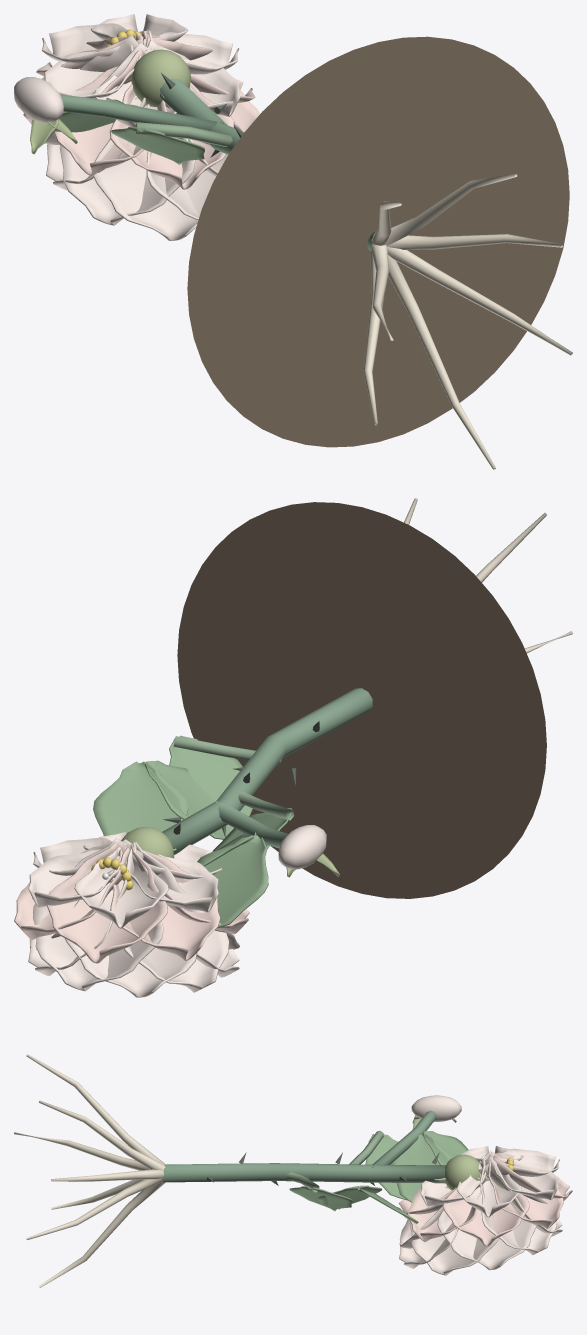
File: rose.glb
3 views of the same model, one above another, from view 1: azimuth 30°, elevation 25°; view 2: azimuth 150°, elevation 25°; view 3: azimuth 270°, elevation 25° (orthographic). The views are drawn at different scales.
Parts seen in each view (by area): view 1: Part_Soil__soil, Part_Petal__petO4, Part_Petal__petO3, Part_Petal__petM3, Part_Petal__petM2, Part_Roots__rt5, Part_Branch__branch, Part_Roots__rt6, Part_Sepal__recept, Part_Petal__petI0, Part_Stem__stem, Part_Roots__rt0 (+19 smaller); view 2: Part_Soil__soil, Part_Stem__stem, Part_Petal__petM0, Part_Leaf__lfa0, Part_Leaf__lfb2, Part_Petal__petO0, Part_Petal__petO1, Part_Petal__petI0, Part_Petal__petM1, Part_Leaf__lfa1, Part_Petal__petI5, Part_Petal__petI1 (+14 smaller); view 3: Part_Stem__stem, Part_Petal__petO7, Part_Petal__petM5, Part_Petal__petO6, Part_Petal__petI4, Part_Leaf__lfb0, Part_Petal__petM6, Part_Roots__rt2, Part_Petal__petM4, Part_Petal__petI5, Part_Roots__rt5, Part_Petal__petO8 (+18 smaller).
Boxes of the visible parts, x1,y1,x2,y2 form: Part_Soil__soil: (187, 36, 569, 447); Part_Petal__petO4: (93, 97, 227, 240); Part_Petal__petO3: (59, 113, 195, 225); Part_Petal__petM3: (109, 82, 234, 189); Part_Petal__petM2: (54, 65, 167, 176); Part_Roots__rt5: (387, 254, 495, 469); Part_Branch__branch: (60, 94, 223, 130); Part_Roots__rt6: (387, 246, 572, 355); Part_Sepal__recept: (131, 49, 190, 106); Part_Petal__petI0: (42, 23, 143, 63); Part_Stem__stem: (160, 78, 376, 251); Part_Roots__rt0: (387, 234, 562, 249); Part_Soil__soil: (177, 502, 546, 898); Part_Stem__stem: (162, 688, 372, 855); Part_Petal__petM0: (46, 842, 167, 963); Part_Leaf__lfa0: (93, 761, 188, 835); Part_Leaf__lfb2: (197, 835, 268, 928); Part_Petal__petO0: (32, 838, 163, 991); Part_Petal__petO1: (64, 842, 204, 997); Part_Petal__petI0: (74, 849, 168, 928); Part_Petal__petM1: (110, 849, 220, 960); Part_Leaf__lfa1: (169, 735, 252, 815); Part_Petal__petI5: (28, 847, 122, 907); Part_Petal__petI1: (122, 854, 218, 912); Part_Stem__stem: (162, 1163, 445, 1183); Part_Petal__petO7: (437, 1187, 536, 1270); Part_Petal__petM5: (442, 1162, 529, 1246); Part_Petal__petO6: (409, 1213, 499, 1275); Part_Petal__petI4: (456, 1166, 521, 1217); Part_Leaf__lfb0: (390, 1134, 451, 1202); Part_Petal__petM6: (487, 1154, 563, 1228); Part_Roots__rt2: (26, 1054, 165, 1164); Part_Petal__petM4: (407, 1174, 482, 1242); Part_Petal__petI5: (494, 1157, 558, 1199); Part_Roots__rt5: (38, 1181, 165, 1287); Part_Petal__petO8: (478, 1154, 556, 1255).
Bounding box in the file's own units: 1.1 × 1.1 × 2.08.
